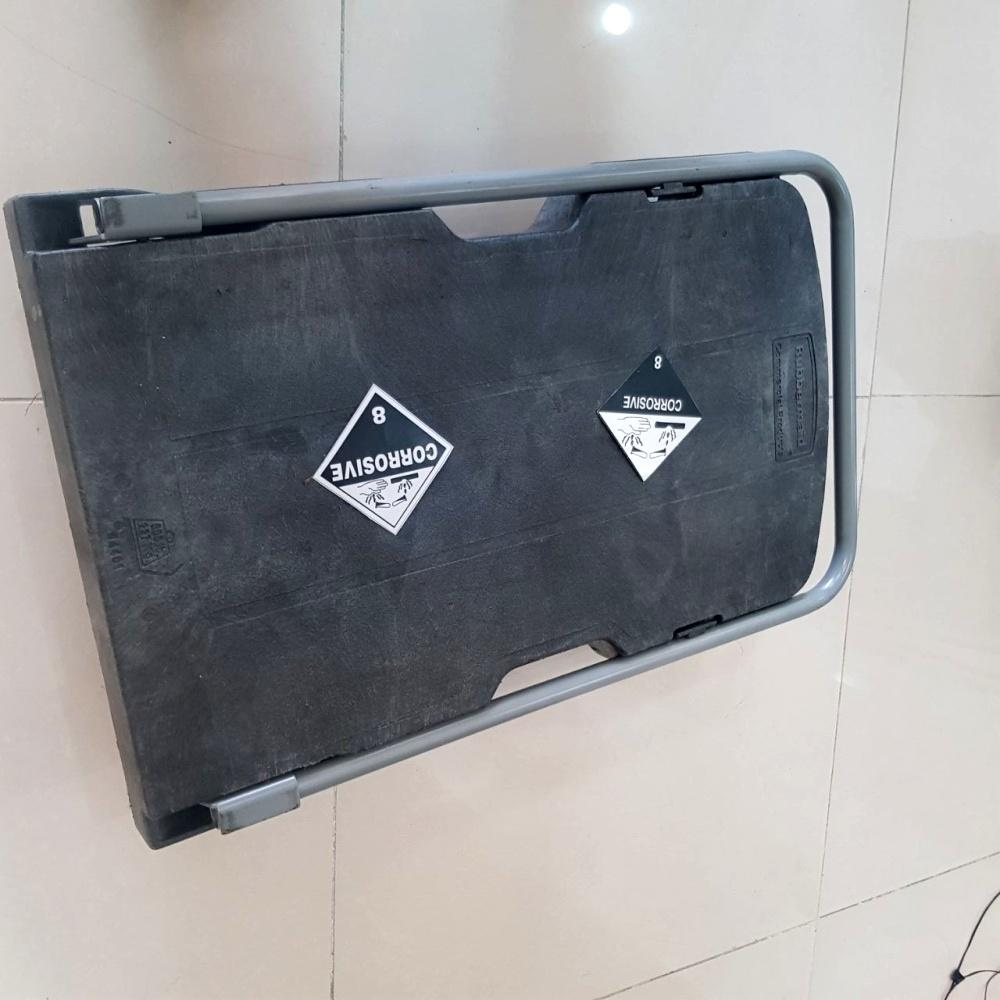corrosive: (319, 392, 447, 528), (595, 349, 702, 483)
